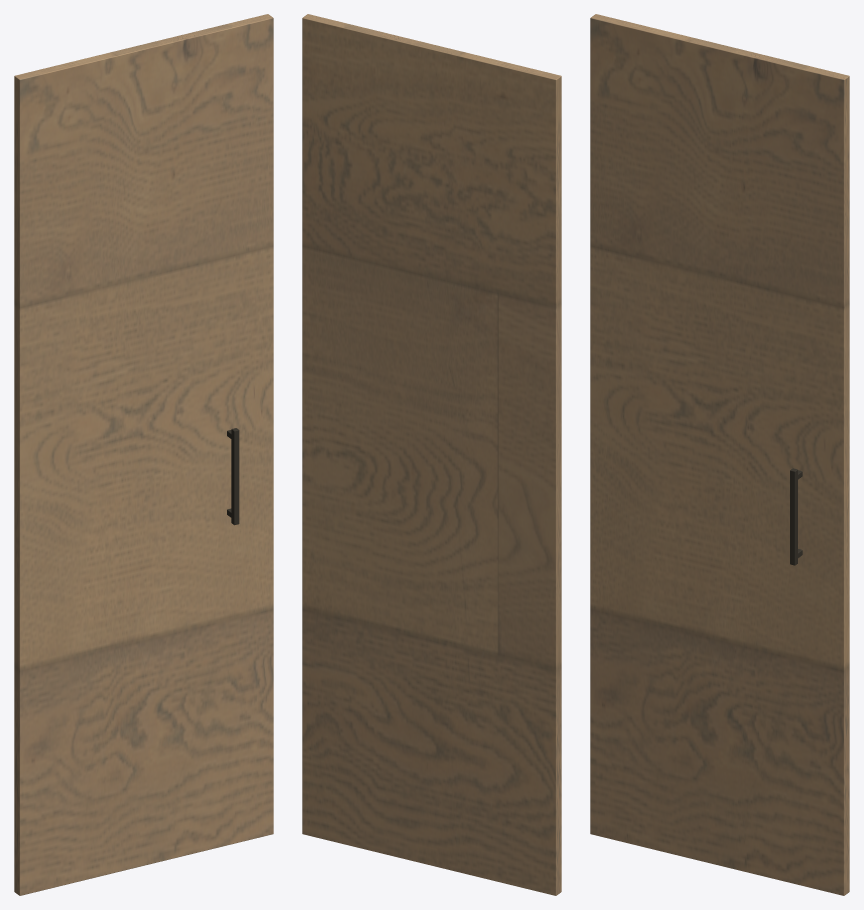
File: entry_left_door.glb
3 views of the same model, side by side, from view 1: azimuth 30°, elevation 25°; view 2: azimuth 150°, elevation 25°; view 3: azimuth 330°, elevation 25° (orthographic).
Parts seen in each view (by area): view 1: entry_left_door_panel, entry_left_door_pull; view 2: entry_left_door_panel; view 3: entry_left_door_panel, entry_left_door_pull.
Part boxes in pixels (left/top/right/bottom): entry_left_door_panel: left=14, top=14, right=273, bottom=895; entry_left_door_pull: left=231, top=428, right=239, bottom=525; entry_left_door_panel: left=302, top=14, right=561, bottom=895; entry_left_door_panel: left=590, top=14, right=849, bottom=895; entry_left_door_pull: left=790, top=468, right=797, bottom=565.
Size of the model in its own units: 0.676 by 2.08 by 0.06.
2 materials, 1 textured.
